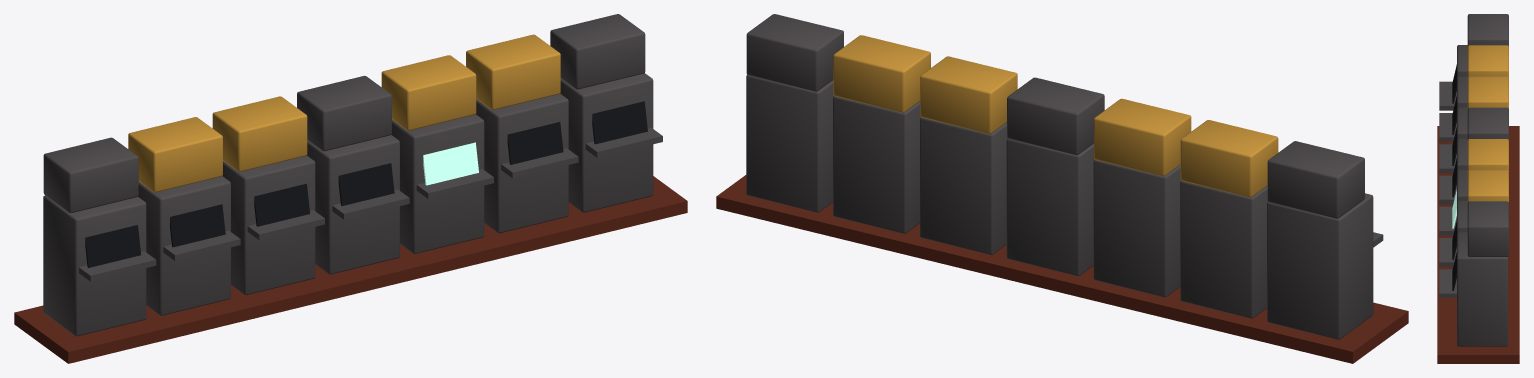
Rendered from cover_slot_bank.glb.
3 views of the same model, side by side, from view 1: azimuth 30°, elevation 25°; view 2: azimuth 150°, elevation 25°; view 3: azimuth 270°, elevation 25° (orthographic). The views are drawn at different scales.
Parts seen in each view (by area): view 1: plinth, cab_0, cab_6, cab_4, cab_1, cab_3, cab_2, cab_5, top_0, top_6, top_4, top_2 (+17 smaller); view 2: plinth, cab_0, cab_2, cab_3, cab_5, cab_1, cab_6, cab_4, top_0, top_1, top_6, top_5 (+3 smaller); view 3: plinth, cab_6, top_6, top_4, top_0, top_2, top_5, top_1, top_3, deck_6, deck_0, deck_4 (+17 smaller).
Part boxes in pixels (x1,y1,x2,y2): plinth: (14, 176, 687, 363); cab_0: (43, 195, 146, 336); cab_6: (560, 73, 653, 212); cab_4: (391, 114, 484, 253); cab_1: (138, 176, 230, 315); cab_3: (307, 135, 399, 274); cab_2: (222, 155, 315, 295); cab_5: (476, 93, 568, 233); top_0: (43, 137, 138, 212); top_6: (550, 14, 645, 89); top_4: (381, 55, 476, 130); top_2: (212, 96, 307, 171); plinth: (716, 175, 1408, 363); cab_0: (1267, 193, 1373, 339); cab_2: (1093, 159, 1180, 297); cab_3: (1006, 138, 1094, 275); cab_5: (833, 96, 920, 233); cab_1: (1180, 180, 1267, 318); cab_6: (746, 74, 833, 212); cab_4: (920, 117, 1007, 254); top_0: (1267, 141, 1364, 218); top_1: (1180, 120, 1278, 197); top_6: (746, 14, 843, 91); top_5: (833, 35, 930, 112); plinth: (1437, 126, 1519, 363); cab_6: (1457, 232, 1507, 346); top_6: (1467, 201, 1508, 256); top_4: (1467, 139, 1508, 171); top_0: (1467, 14, 1508, 46); top_2: (1467, 76, 1508, 108); top_5: (1467, 170, 1508, 202); top_1: (1467, 45, 1508, 77); top_3: (1467, 107, 1508, 139); deck_6: (1439, 269, 1456, 297); deck_0: (1439, 81, 1456, 110); deck_4: (1439, 206, 1456, 235).
Bounding box in the file's own units: 6.6 × 1.74 × 1.
